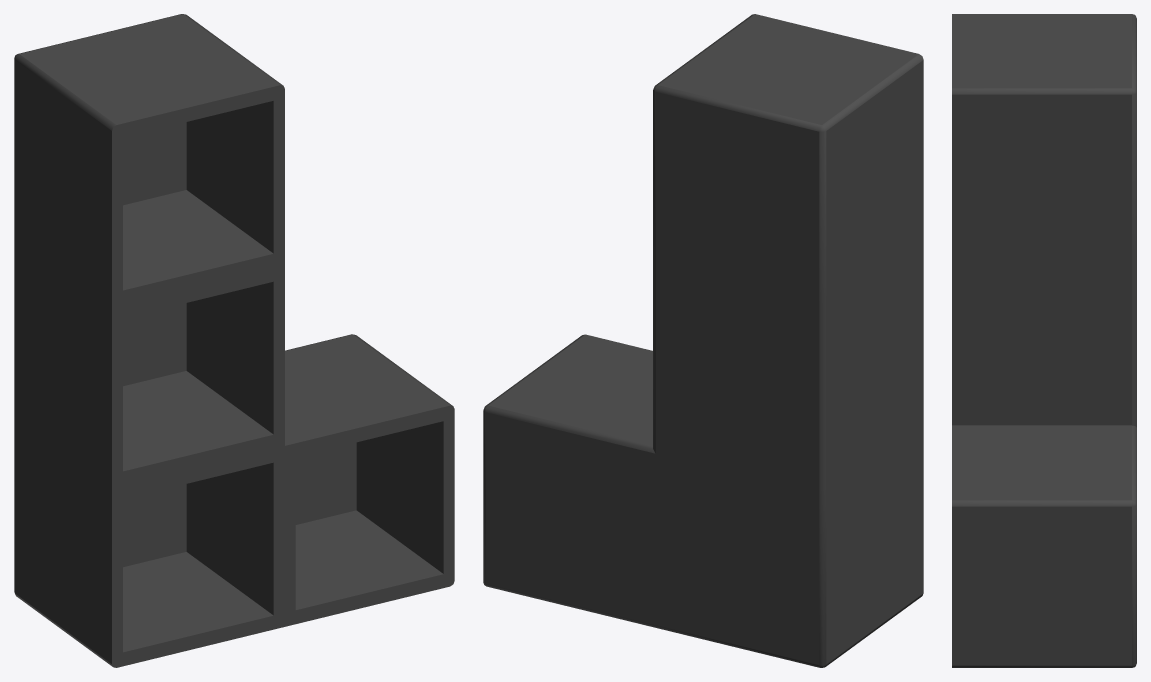
File: L_LBoxShelf.fbx
3 views of the same model, side by side, from view 1: azimuth 30°, elevation 25°; view 2: azimuth 150°, elevation 25°; view 3: azimuth 270°, elevation 25° (orthographic). The views are drawn at different scales.
Parts seen in each view (by area): view 1: polySurface5; view 2: polySurface5; view 3: polySurface5.
Part boxes in pixels (x1,y1,x2,y2): polySurface5: [14, 14, 454, 667]; polySurface5: [483, 14, 923, 667]; polySurface5: [952, 14, 1136, 667].
Size of the model in its own units: 1.98 by 3 by 1.
1 material, 1 textured.
